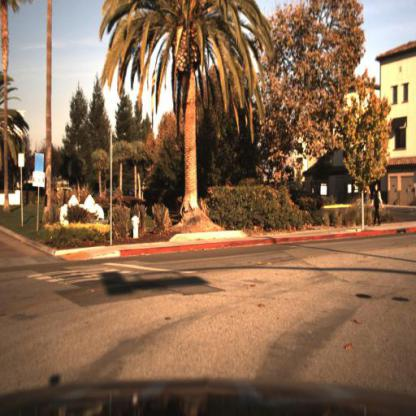pedestrian: (369, 179, 385, 227), (371, 184, 384, 231)
